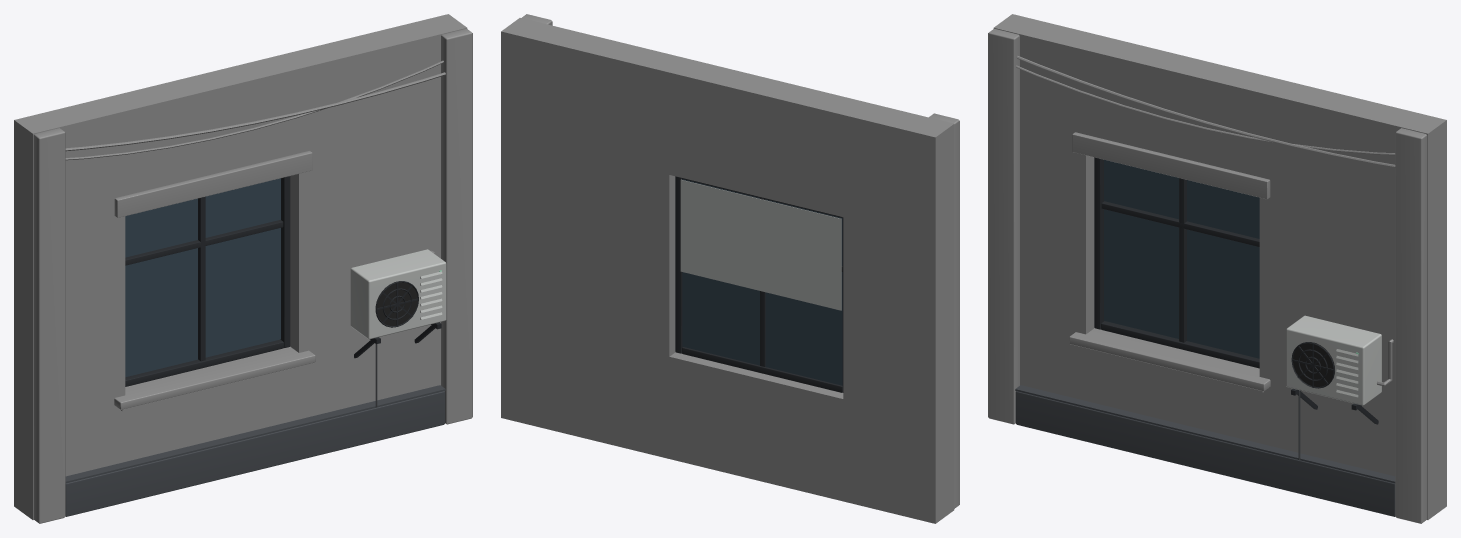
File: Building_Facade_Plaster_Window_AC.fbx
The picture shows the model from 3 angles, left to right: view 1: azimuth 30°, elevation 25°; view 2: azimuth 150°, elevation 25°; view 3: azimuth 330°, elevation 25°; orthographic projection.
Parts seen in each view (by area): view 1: Building_Facade_Plaster_Window_AC_LOD0; view 2: Building_Facade_Plaster_Window_AC_LOD0; view 3: Building_Facade_Plaster_Window_AC_LOD0.
Boxes of the visible parts, box(x1,y1,x2,y2) form: Building_Facade_Plaster_Window_AC_LOD0: box(14, 14, 472, 523); Building_Facade_Plaster_Window_AC_LOD0: box(501, 14, 959, 523); Building_Facade_Plaster_Window_AC_LOD0: box(988, 14, 1446, 523).
Size of what is drawn, in the model's own units: 4 by 3.4 by 0.67.
